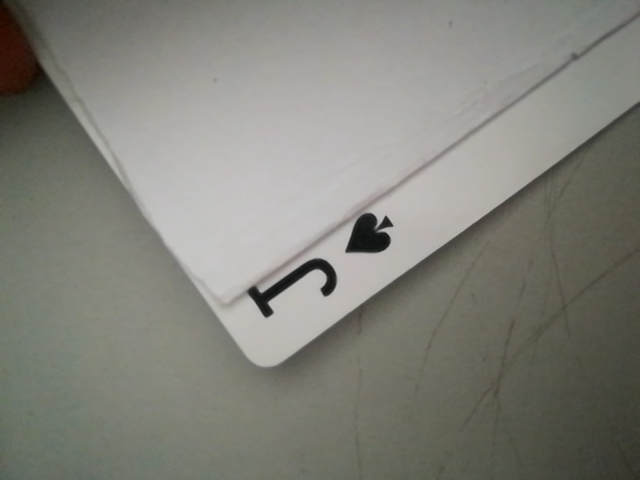ht j: (235, 205, 413, 335)
